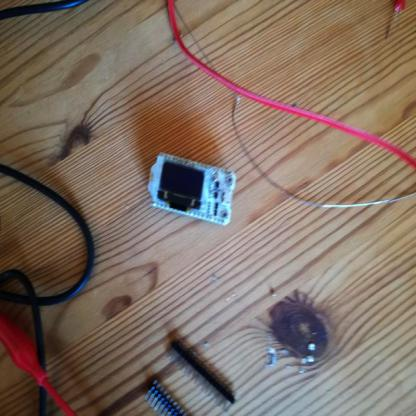Heltec_ESP32_Lora: (145, 151, 242, 229)
